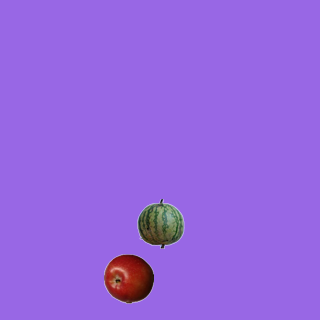Apple Braeburn: (103, 253, 153, 303)
Watermelon: (135, 198, 185, 248)
